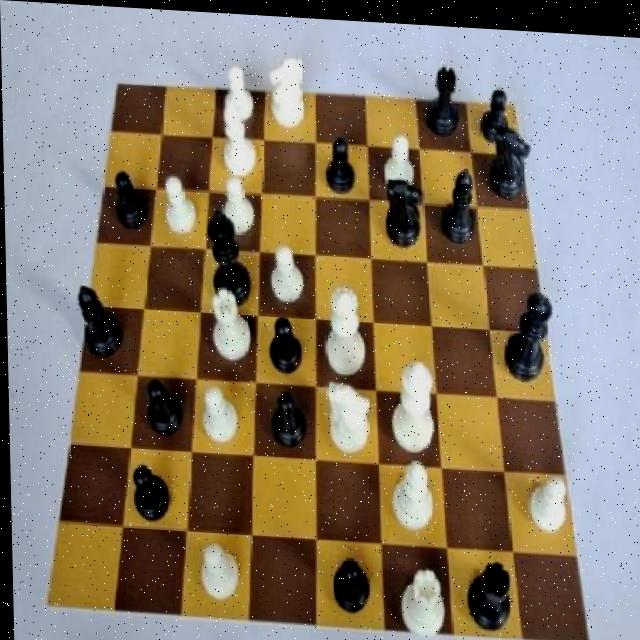bishop: (71, 274, 128, 373), (433, 156, 483, 251)
black-bishop: (197, 205, 253, 306)
black-king: (480, 106, 539, 204), (381, 161, 426, 249)
black-knight: (123, 453, 177, 528), (139, 366, 184, 444), (263, 378, 309, 454), (108, 163, 153, 239), (473, 71, 517, 144), (323, 547, 370, 615), (322, 123, 361, 196), (264, 309, 304, 375)
black-pawn: (501, 269, 559, 389)
black-queen: (458, 549, 521, 633), (418, 50, 463, 138)
black-rook: (380, 446, 437, 530), (214, 102, 261, 180)
white-bishop: (383, 351, 446, 453)
white-king: (316, 365, 376, 458), (262, 43, 309, 134)
white-knight: (192, 531, 247, 606), (520, 465, 570, 539), (377, 122, 423, 197), (196, 377, 246, 444), (213, 172, 259, 241), (158, 166, 202, 238), (219, 50, 257, 131), (268, 232, 306, 308)
white-pawn: (316, 279, 370, 384)
white-queen: (202, 277, 252, 365), (394, 557, 449, 637)
